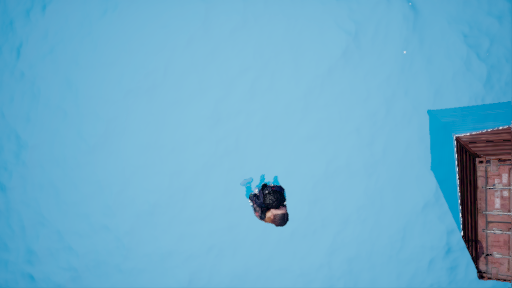person: (234, 176, 294, 233)
